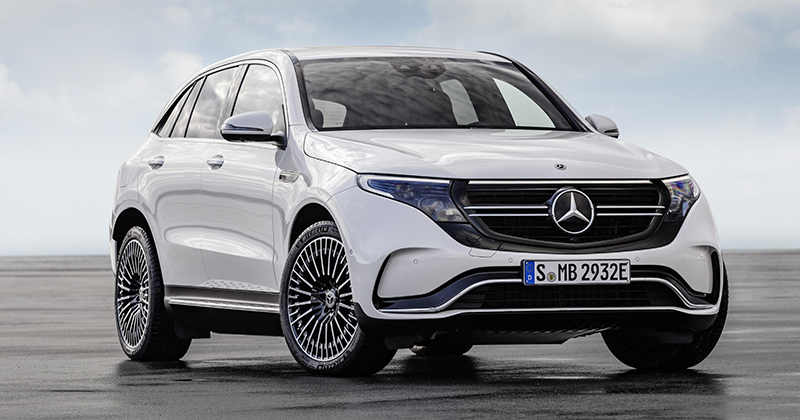pickup: (107, 41, 732, 379)
